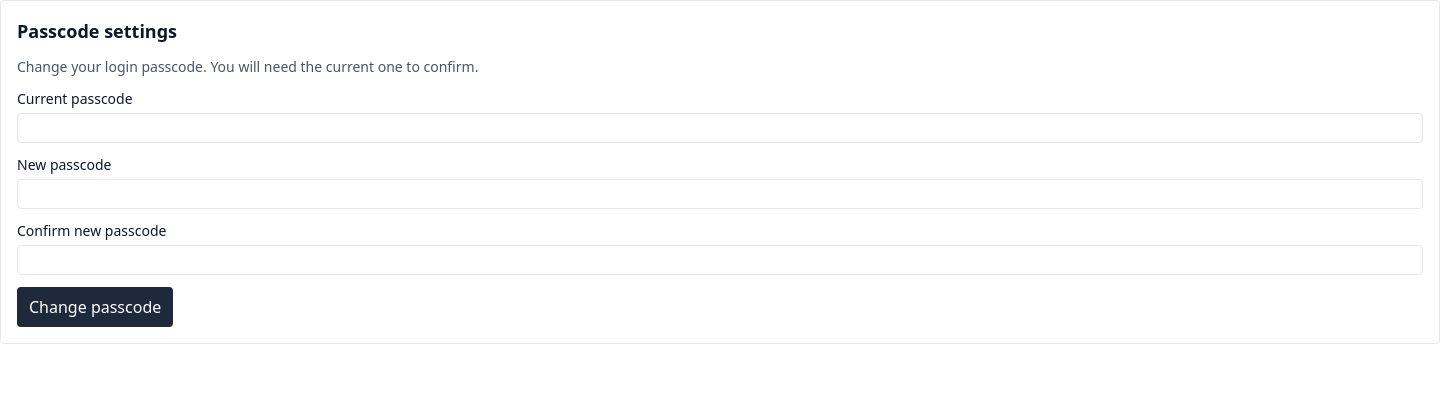
PasscodeSettings › shows API error detail on failed change
Type "wrong" into the password field labelled "Current passcode" at x=720, y=128, box [17, 113, 1423, 143]
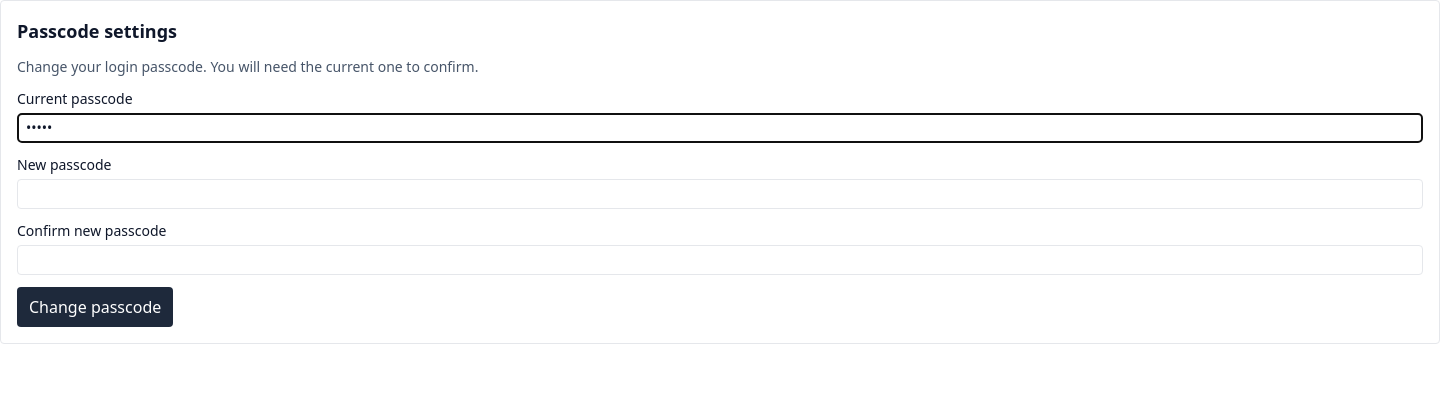
Type "new-pass" into the password field labelled "New passcode" at x=720, y=194, box [17, 179, 1423, 209]
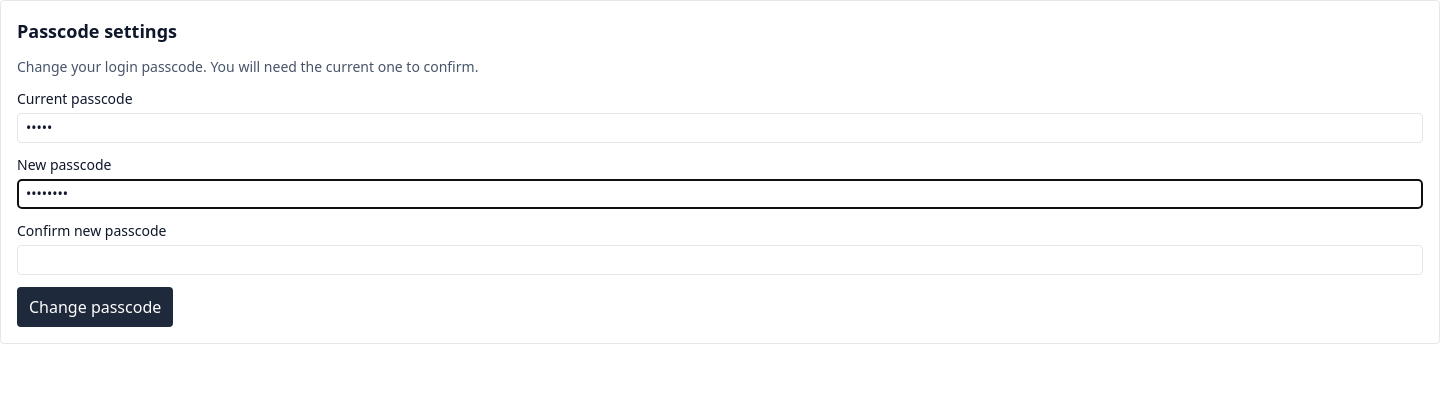
Type "new-pass" into the password field labelled "Confirm new passcode" at x=720, y=260, box [17, 245, 1423, 275]
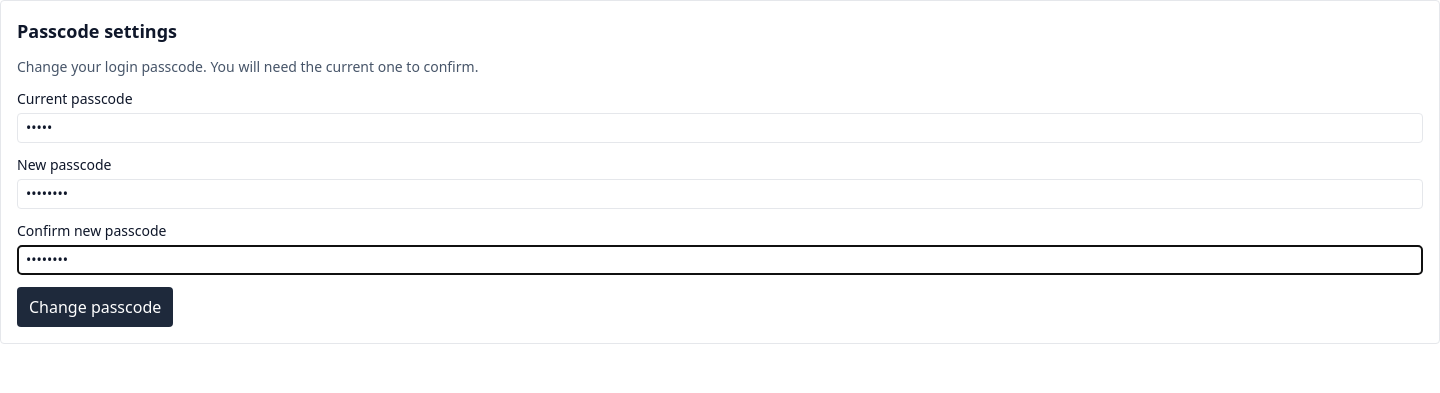
Click the button "Change passcode" at x=95, y=307, box [17, 287, 173, 327]
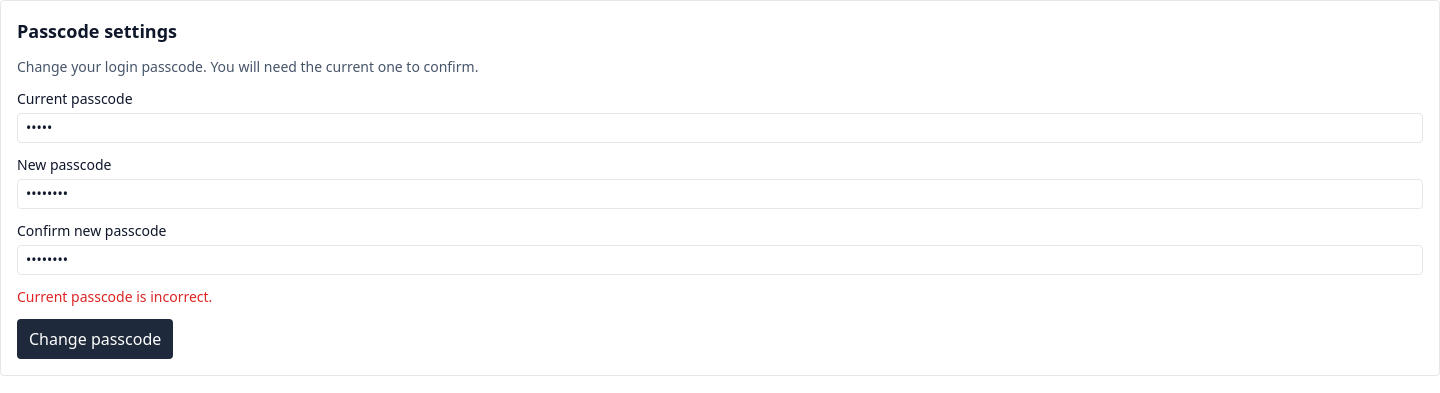
expect the text "Current passcode is incorrect." is shown: met, box [17, 287, 212, 306]
